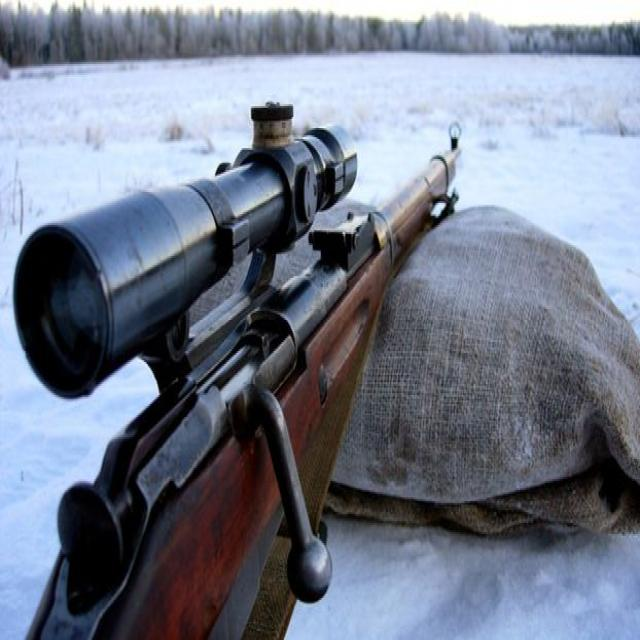firearm: (12, 117, 463, 640)
